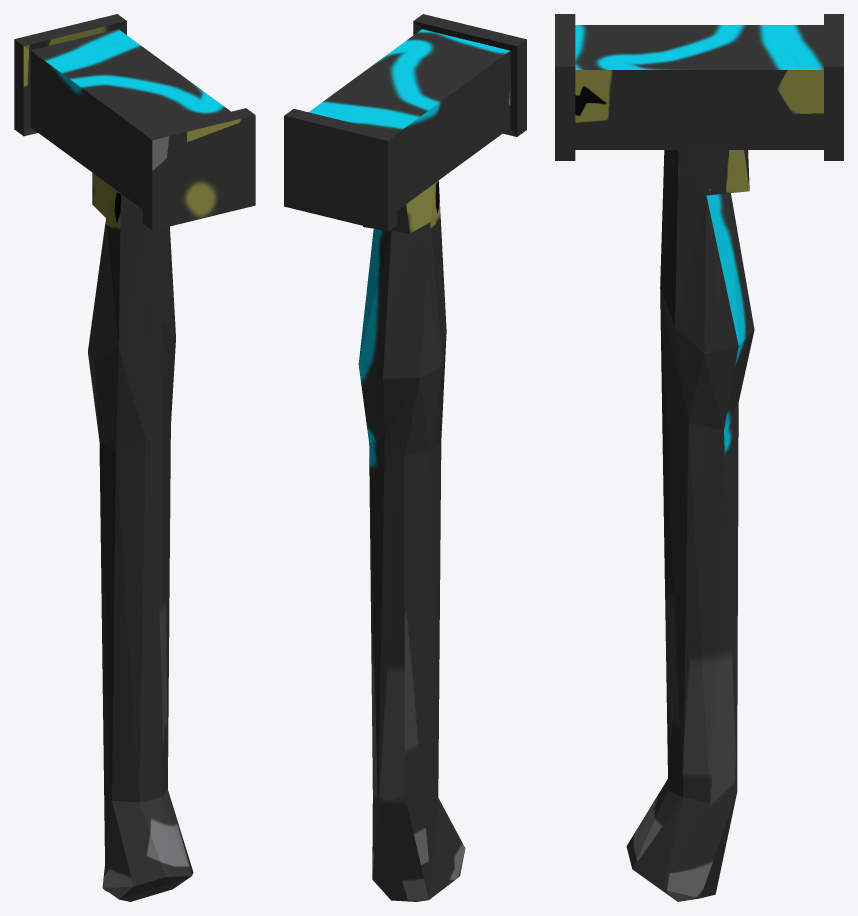
The model's file is Bonk.fbx.
3 views of the same model, side by side, from view 1: azimuth 30°, elevation 25°; view 2: azimuth 150°, elevation 25°; view 3: azimuth 270°, elevation 25° (orthographic). The views are drawn at different scales.
Visible parts, largest first — view 1: Cylinder; view 2: Cylinder; view 3: Cylinder.
Part boxes in pixels (left/top/right/bottom): Cylinder: left=14, top=14, right=255, bottom=901; Cylinder: left=284, top=14, right=526, bottom=901; Cylinder: left=555, top=14, right=843, bottom=901.
Size of the model in its own units: 86.86 by 660 by 201.
